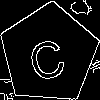C: (23, 29, 69, 83)
